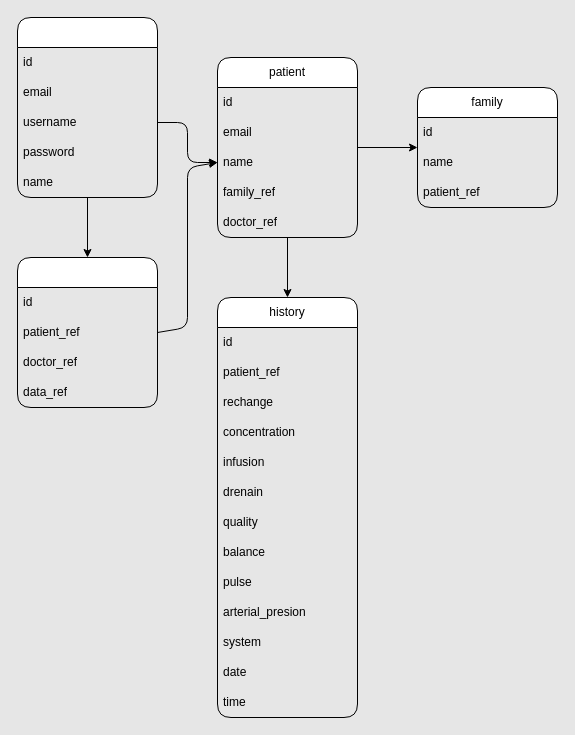
The diagram is 575 pixels wide and 735 high, and some of its shapes have lost their labels. The shapes that lost their labels are listed below. From the top down, each one's box as (x1, y1, x2, y2) in pixels, then its label:
(16, 16, 158, 198): doctors
(16, 256, 158, 408): alerts
